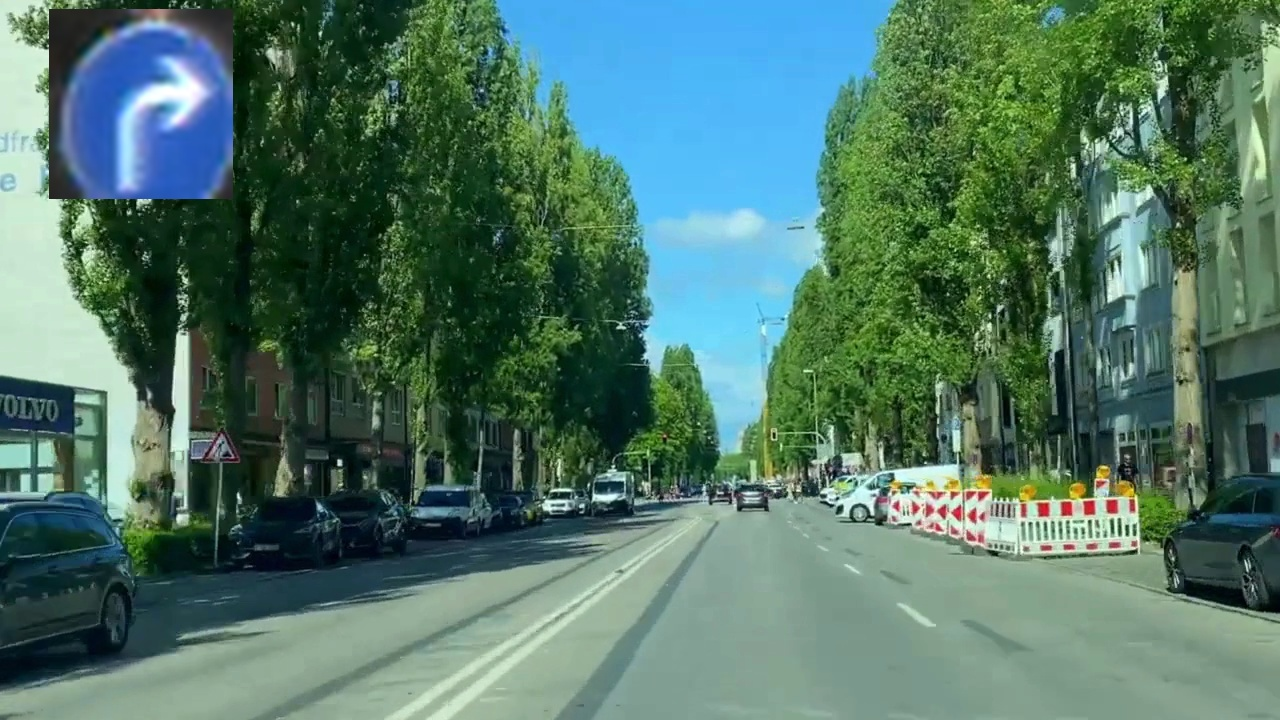Turn right: (49, 9, 233, 199)
